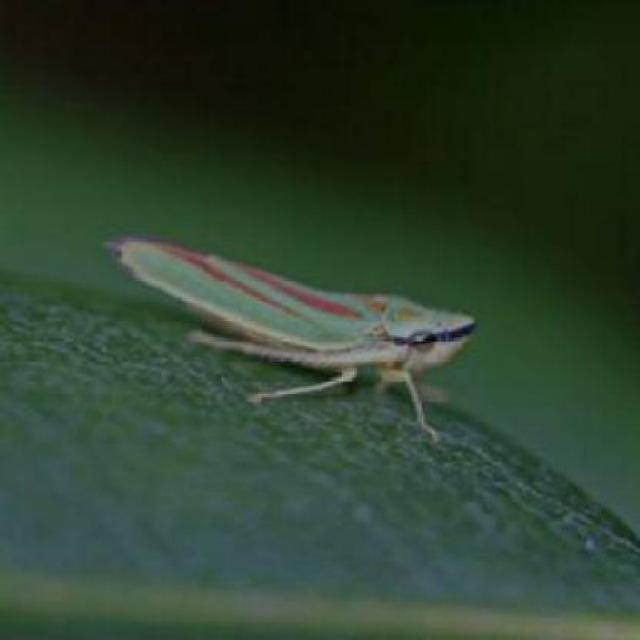green-leafhopper: (115, 229, 451, 414)
